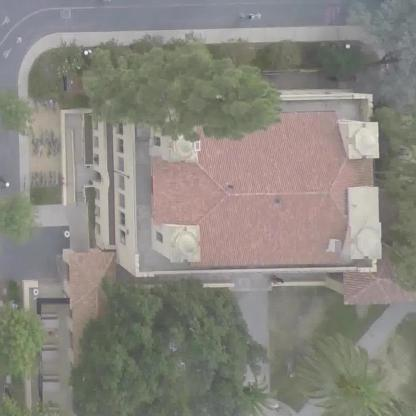Skateboarder: (232, 12, 258, 27)
